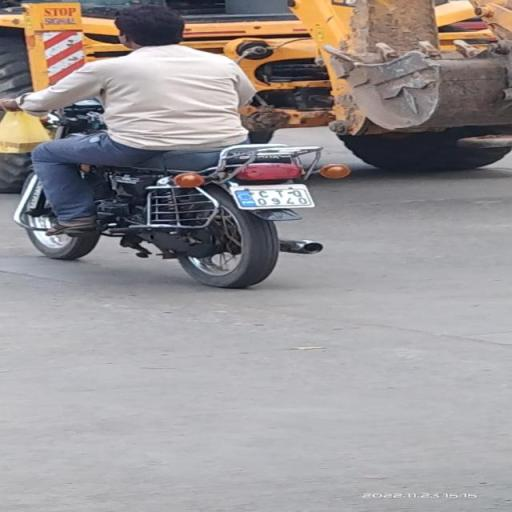bike: (6, 1, 334, 291)
numberplate: (228, 179, 314, 212)
withouthelmet: (120, 8, 181, 47)
